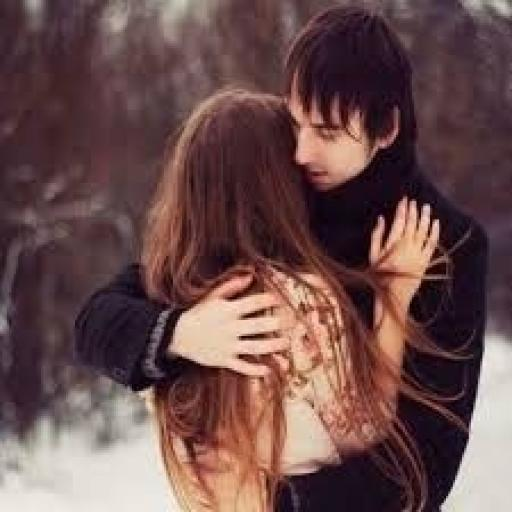hugging: (70, 0, 494, 510)
